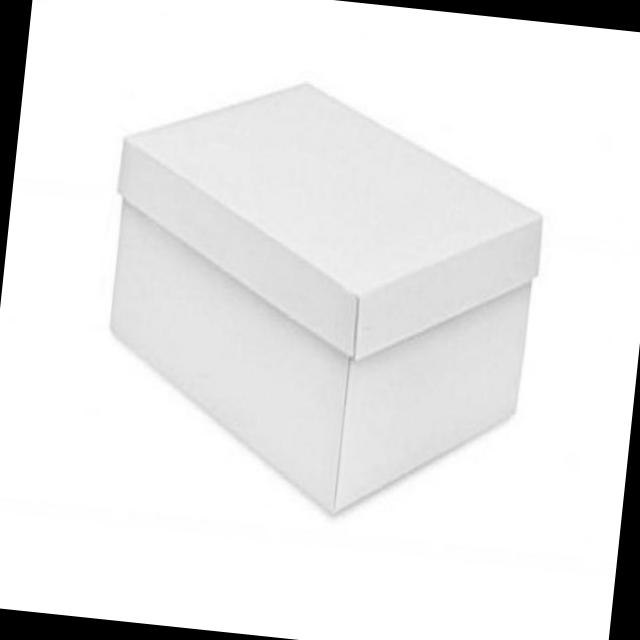box: (83, 55, 560, 538)
